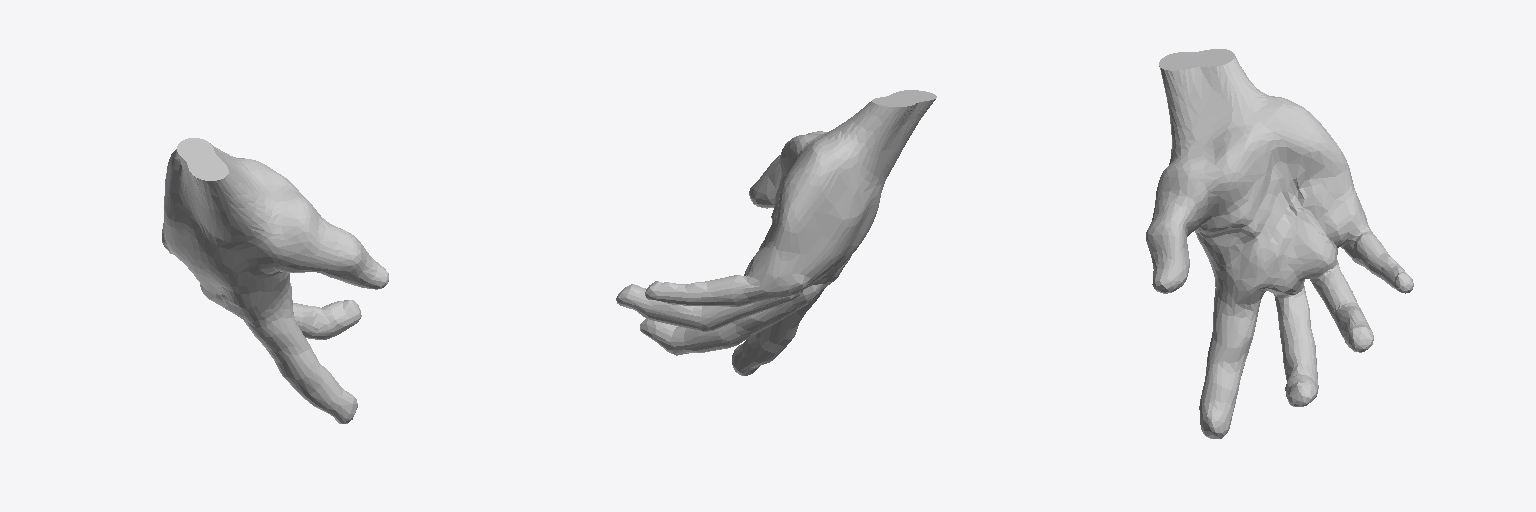
Rendered from thehand_decimated.OBJ.
The picture shows the model from 3 angles: view 1: azimuth 30°, elevation 25°; view 2: azimuth 150°, elevation 25°; view 3: azimuth 270°, elevation 25°; orthographic projection.
Visible parts, largest first — view 1: Group1, Group18473; view 2: Group1, Group18473; view 3: Group1, Group18473.
Boxes of the visible parts, x1=… form: Group1: x1=162, y1=143, x2=388, y2=423; Group18473: x1=177, y1=138, x2=228, y2=180; Group1: x1=616, y1=99, x2=935, y2=375; Group18473: x1=872, y1=90, x2=936, y2=106; Group1: x1=1146, y1=54, x2=1413, y2=438; Group18473: x1=1159, y1=49, x2=1234, y2=70.
Bounding box in the file's own units: 3 × 3.89 × 3.02.